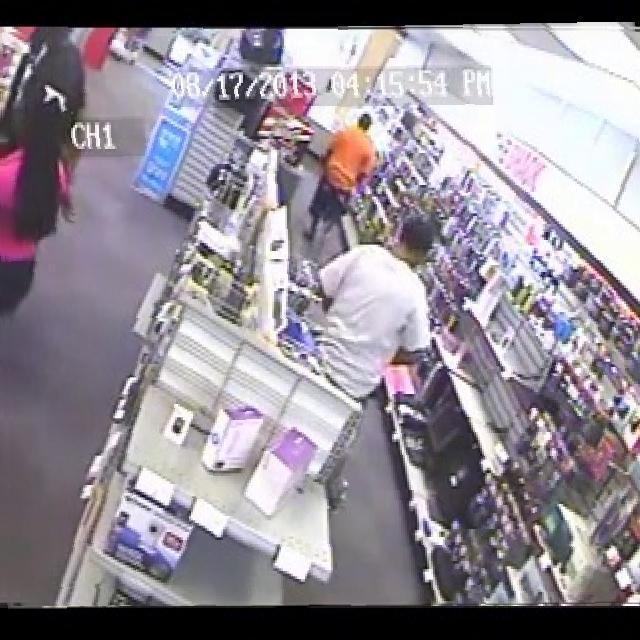Normal: (0, 24, 640, 606)
